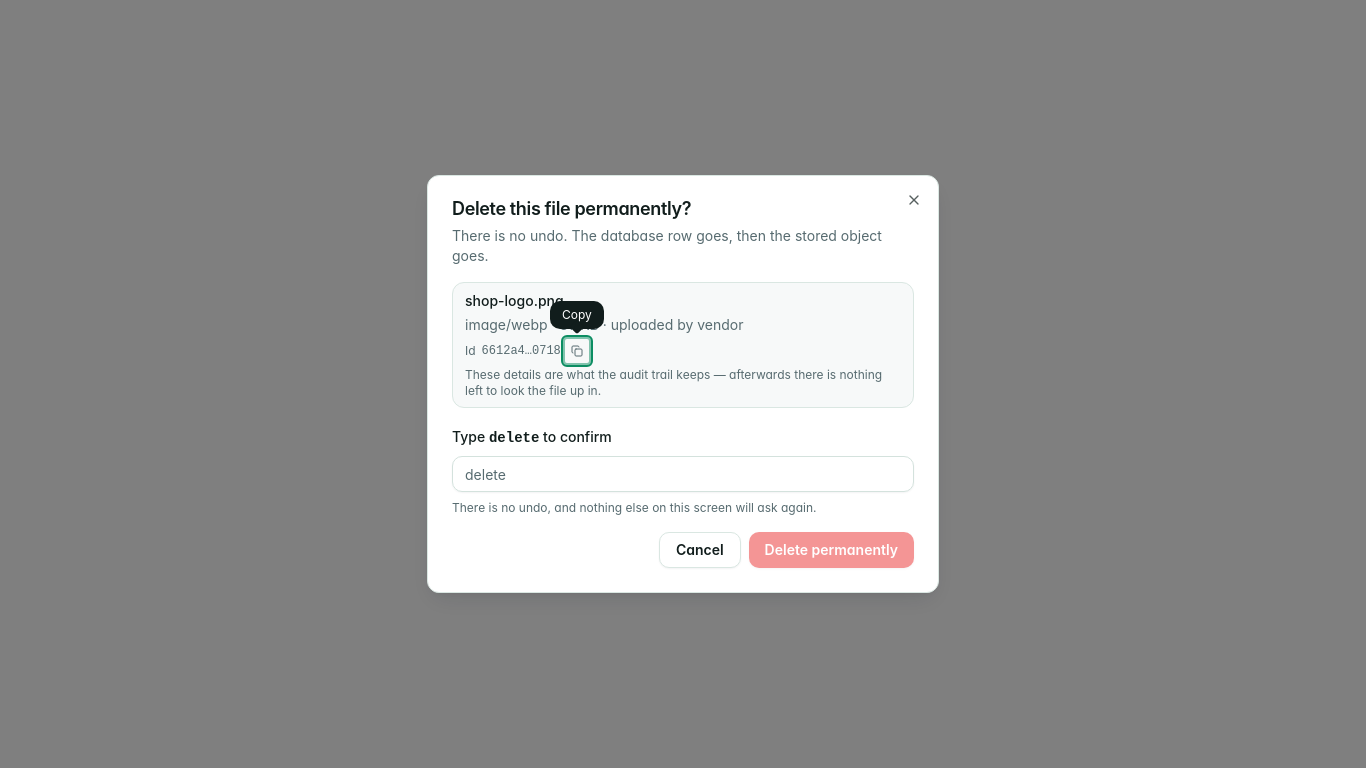
Test: what the operator is asked for › will not take the file id as the confirmation
Type "6612a4f0c1a2b3d4e5f60718" into the field with placeholder "delete".
click(683, 474); type("6612a4f0c1a2b3d4e5f60718")  # box [452,456,914,492]
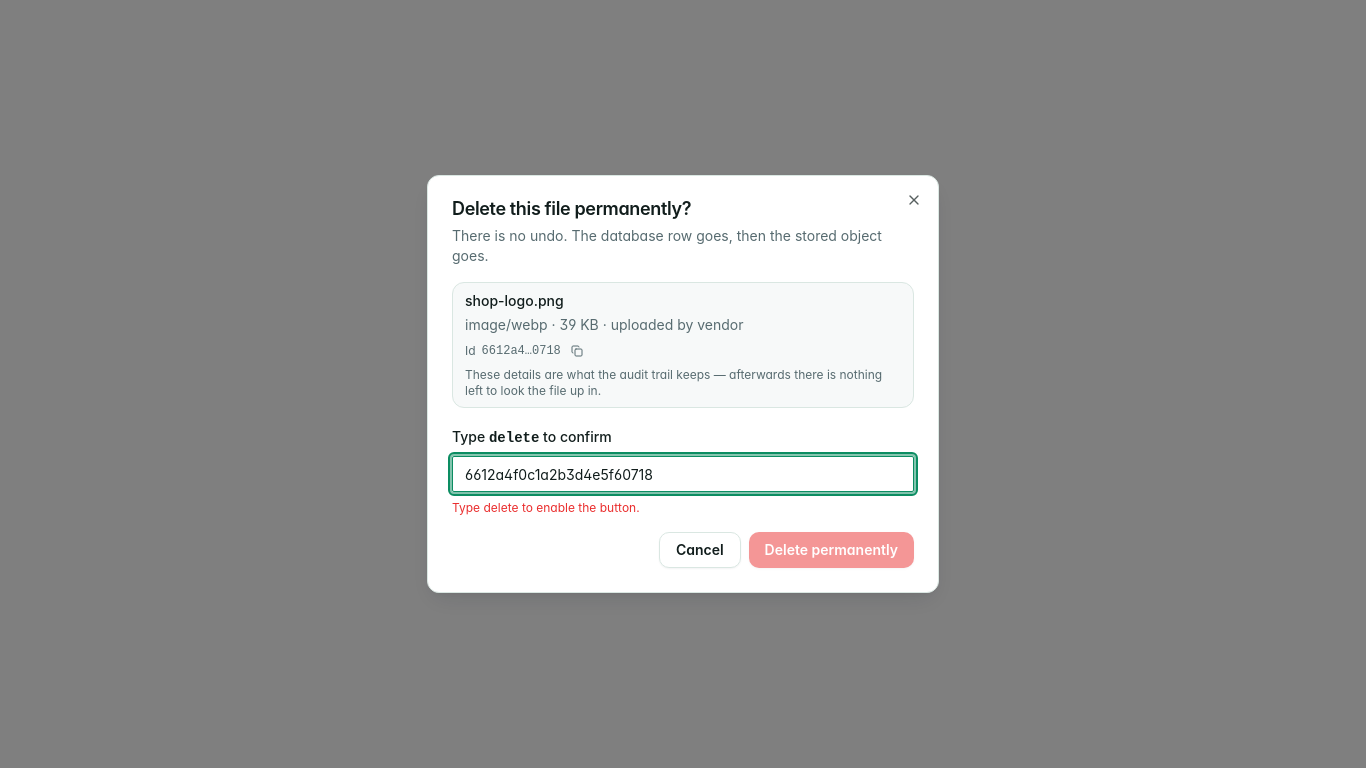
Expected: the button "Delete permanently" is disabled, [749,532,914,568]
Now the message shows "Type delete", box [452,500,640,515]
